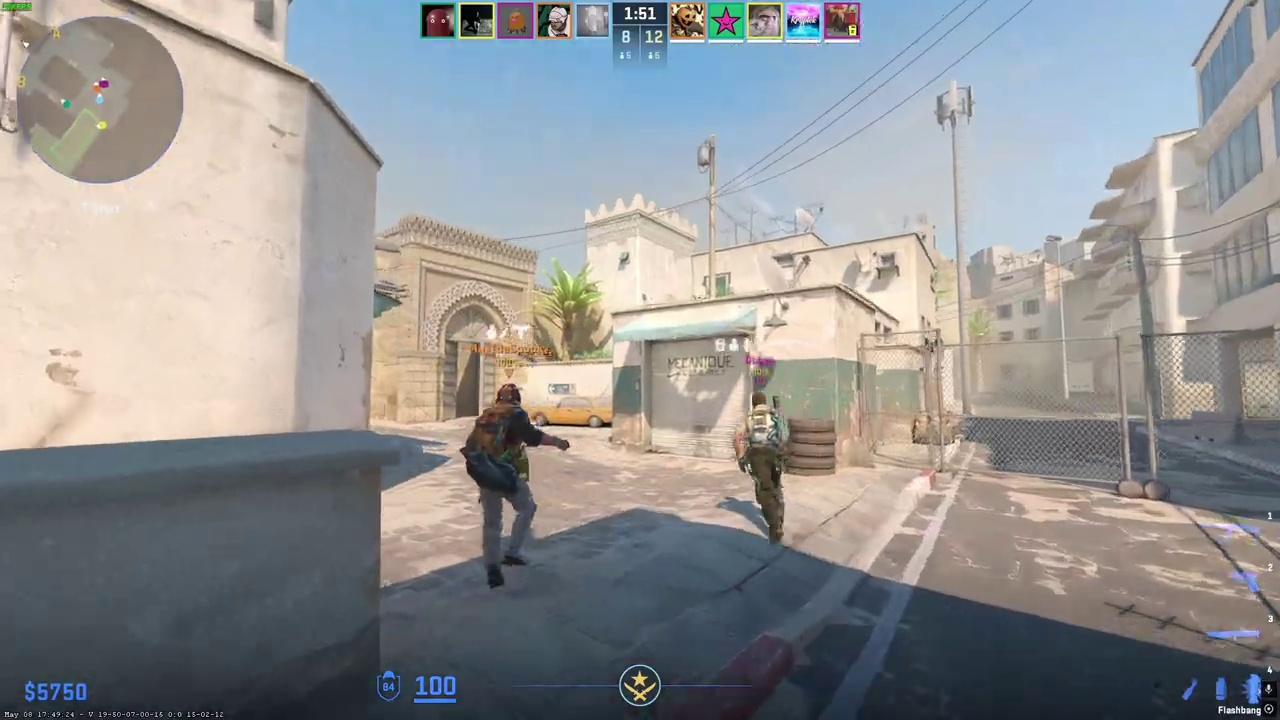Terrorist: (469, 383, 542, 590), (734, 391, 786, 545)
